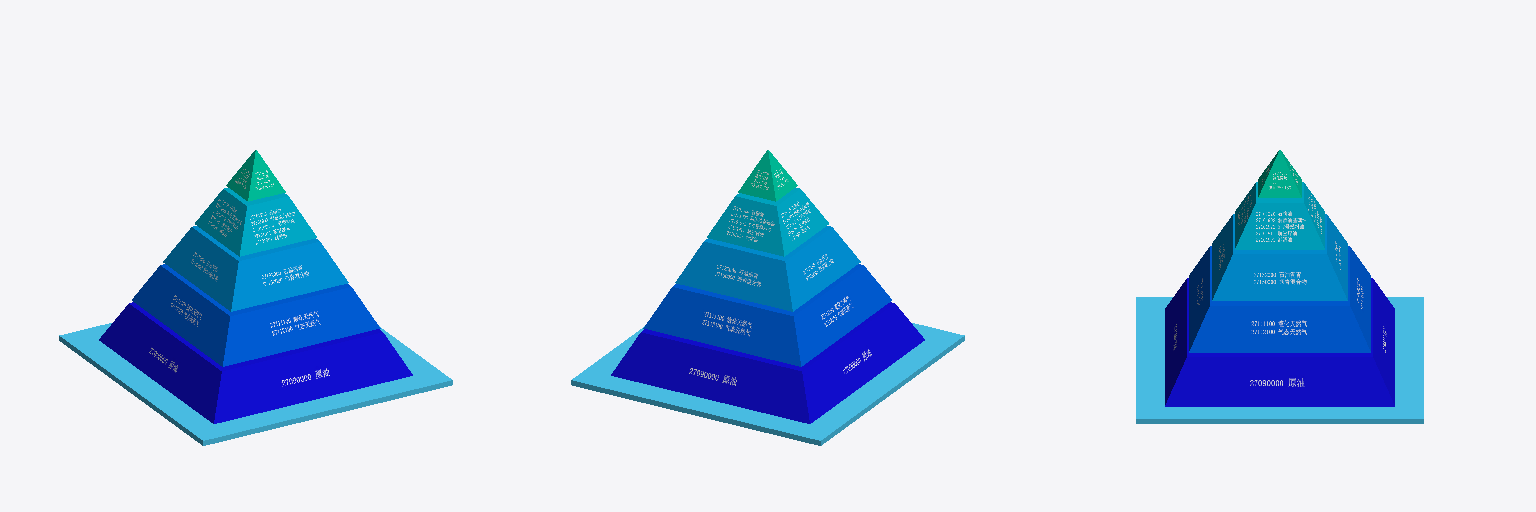
The picture shows the model from 3 angles: view 1: azimuth 30°, elevation 25°; view 2: azimuth 150°, elevation 25°; view 3: azimuth 270°, elevation 25°; orthographic projection.
Visible parts, largest first — view 1: F01, F02, base, F03, F04, F05; view 2: F01, F02, base, F03, F04, F05; view 3: F01, base, F02, F03, F04, F05.
Boxes of the visible parts, x1=… form: F01: x1=99, y1=302, x2=412, y2=423; F02: x1=132, y1=264, x2=380, y2=366; base: x1=59, y1=323, x2=452, y2=445; F03: x1=163, y1=226, x2=348, y2=311; F04: x1=195, y1=188, x2=316, y2=256; F05: x1=226, y1=150, x2=285, y2=201; F01: x1=611, y1=302, x2=924, y2=423; F02: x1=643, y1=264, x2=891, y2=366; base: x1=571, y1=323, x2=964, y2=445; F03: x1=675, y1=226, x2=860, y2=311; F04: x1=707, y1=188, x2=828, y2=256; F05: x1=738, y1=150, x2=797, y2=201; F01: x1=1165, y1=278, x2=1394, y2=406; base: x1=1136, y1=297, x2=1423, y2=423; F02: x1=1189, y1=246, x2=1370, y2=352; F03: x1=1212, y1=214, x2=1347, y2=300; F04: x1=1235, y1=182, x2=1324, y2=249; F05: x1=1258, y1=150, x2=1301, y2=197.
Bounding box in the file's own units: 1250 × 1025 × 1250.
Materials: 1 (1 with a texture image).